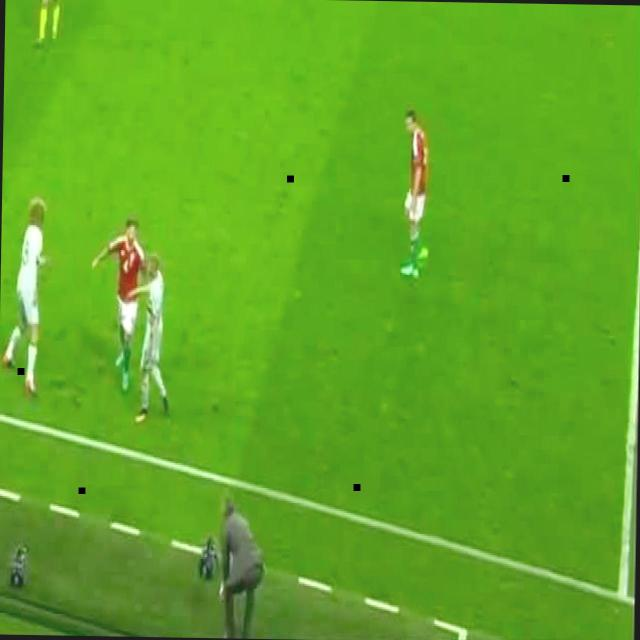player-white: (90, 218, 148, 392), (2, 196, 50, 397), (125, 255, 172, 426), (400, 109, 431, 281), (19, 0, 67, 50)
